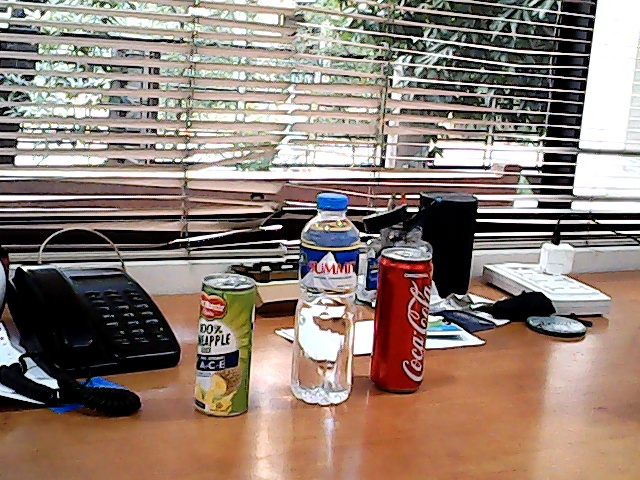Cola: (362, 242, 447, 400)
Pine Juice: (183, 270, 269, 430)
Summit Water: (278, 188, 377, 409)
